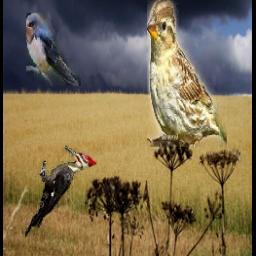Sparrow: (147, 0, 227, 147)
Swallow: (26, 13, 81, 86)
Woodpecker: (25, 143, 97, 237)
